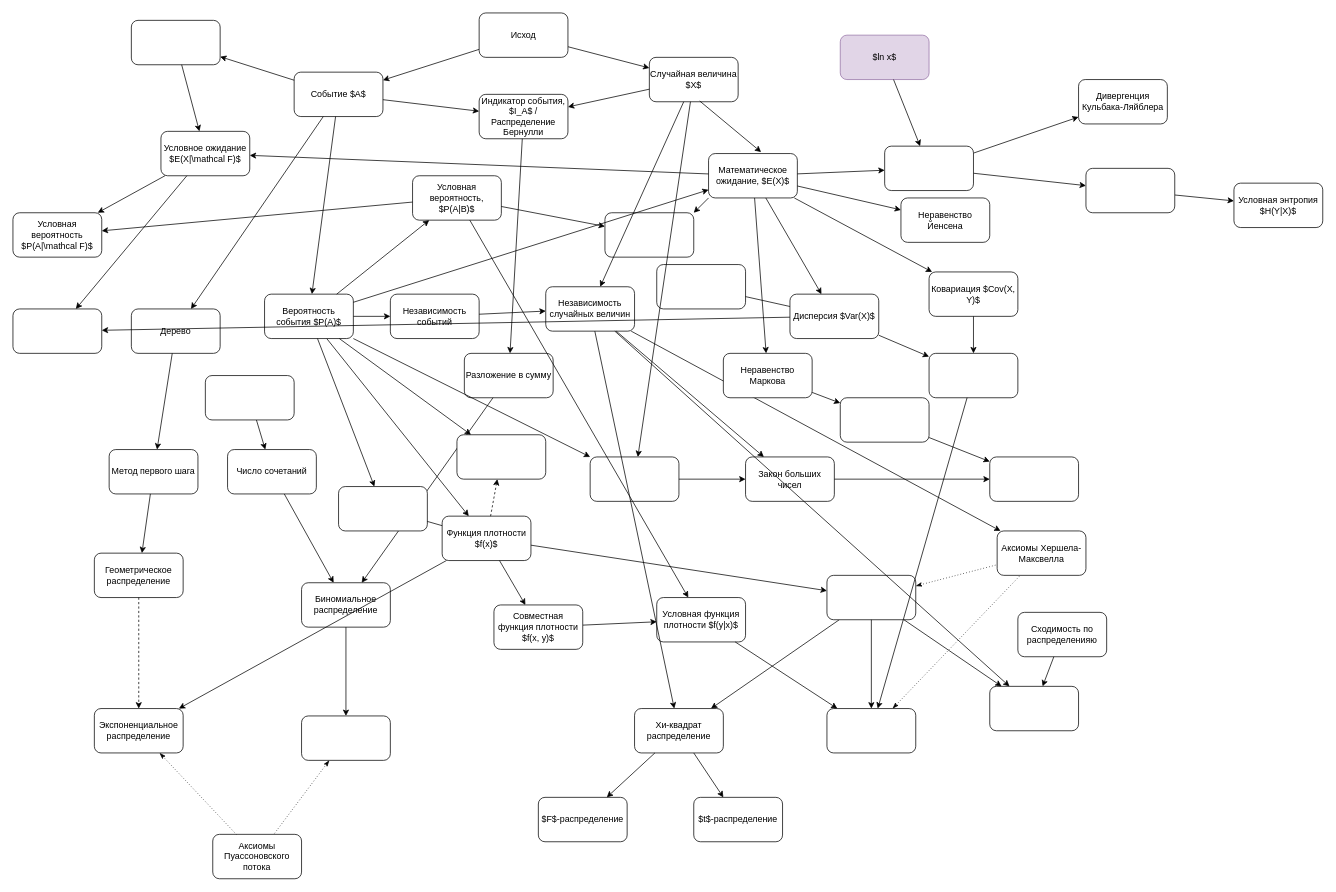
Some shapes in this 1336 by 892 pixel diagram are drawn without their labels. The shapes that lost their labels are listed below. From the top down, each one's box as (x1, y1, x2, y2) in pixels, then its label:
(131, 20, 220, 65): Сигма-алгебра $\mathcal F$
(884, 145, 973, 191): Энтропия $H(X)$
(1085, 168, 1175, 213): Совместная энтропия $H(X, Y)$
(604, 212, 694, 257): Условное ожидание $E(X|A)$
(656, 264, 746, 309): Стандартное отклонение
(12, 308, 102, 353): Условная дисперсия $Var(X | \mathcal F)$
(928, 353, 1018, 398): Корреляция $Corr(X, Y)$
(205, 375, 294, 420): Факториал
(840, 397, 929, 442): Неравенство Чебышёва
(456, 434, 546, 479): Равномерное распределение
(589, 456, 679, 501): Сходимость по вероятности
(989, 456, 1079, 501): Доказательство ЗБЧ
(338, 486, 427, 531): Функция распределения
(826, 575, 916, 620): Нормальное распределение $N(\mu, \sigma^2)$
(989, 686, 1079, 731): Центральная предельная теорема
(301, 715, 390, 760): Распределение Пуассона
(826, 708, 916, 753): Многомерное нормальное распределение
